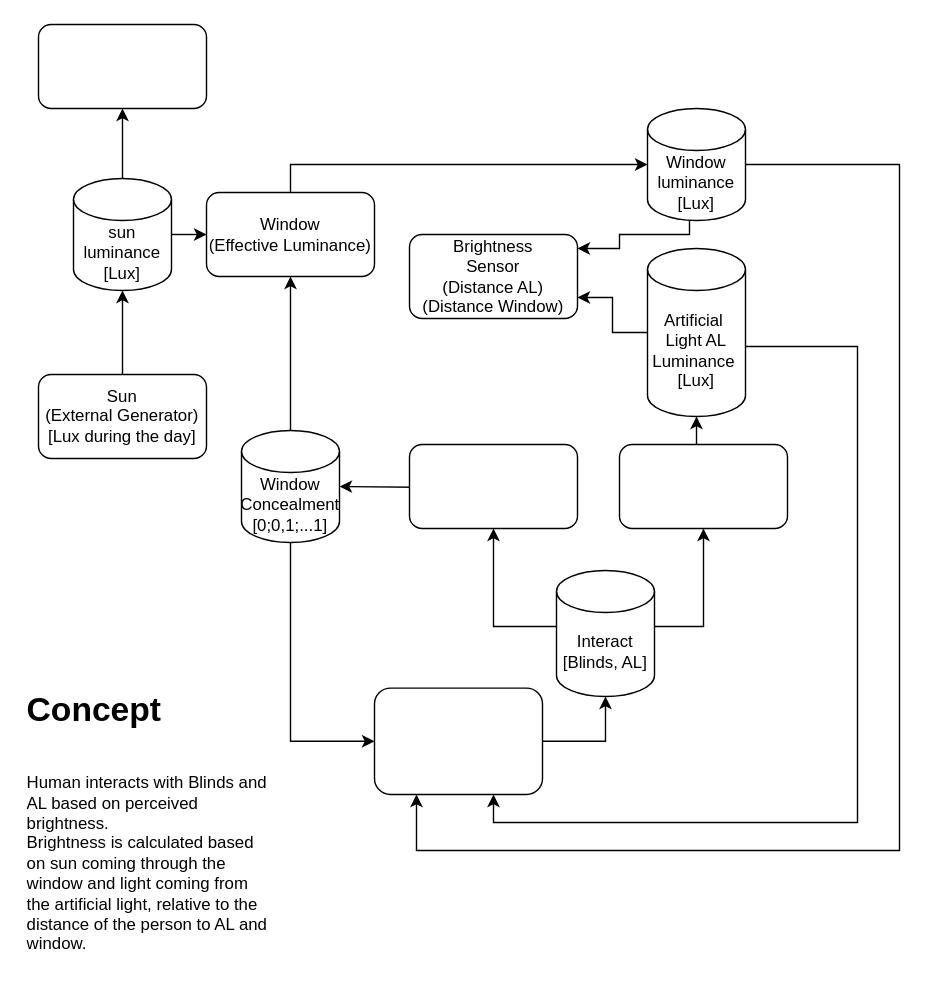
Some shapes in this 935 by 1004 pixel diagram are drawn without their labels. The shapes that lost their labels are listed below. From the top down, each one's centre as x and y in pixels, then its label:
(x=121, y=65): Pyranometer Sensor
(x=493, y=485): Blinds [Up, Down, Halt] (Position)
(x=703, y=485): Artifical Light [On,Off] (Status) (Lux Output)
(x=457, y=740): Human [InOffice, Outside] (Current Activity) (Distance AL) (Distance Window)
